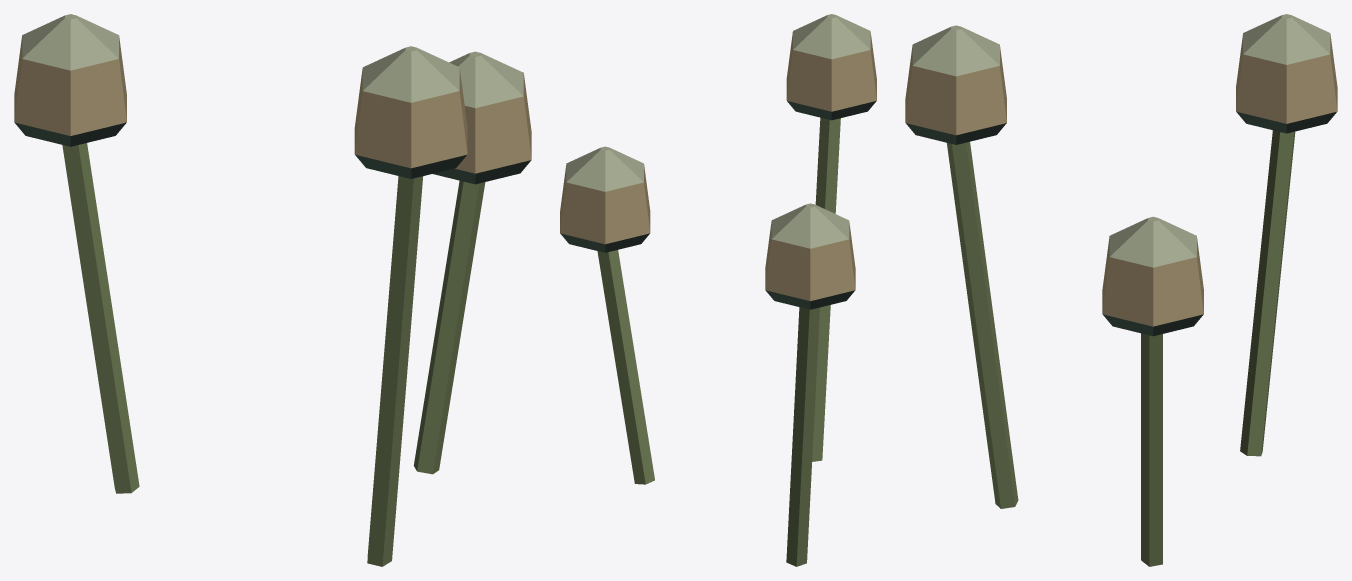
The model's file is glow-stalk.glb.
The picture shows the model from 3 angles, left to right: view 1: azimuth 30°, elevation 25°; view 2: azimuth 150°, elevation 25°; view 3: azimuth 270°, elevation 25°; orthographic projection. The views are drawn at different scales.
Parts seen in each view (by area): view 1: glow-stalk__body; view 2: glow-stalk__body; view 3: glow-stalk__body.
Part boxes in pixels (x1,y1,x2,y2): glow-stalk__body: (14,14,531,566); glow-stalk__body: (560,14,876,566); glow-stalk__body: (905,14,1337,566).
Size of the model in its own units: 0.9436 by 1.08 by 0.8849.
